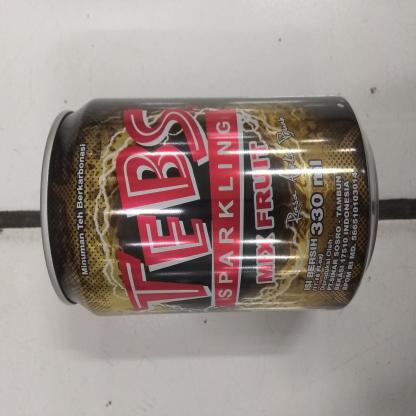bottle: (36, 89, 382, 327)
